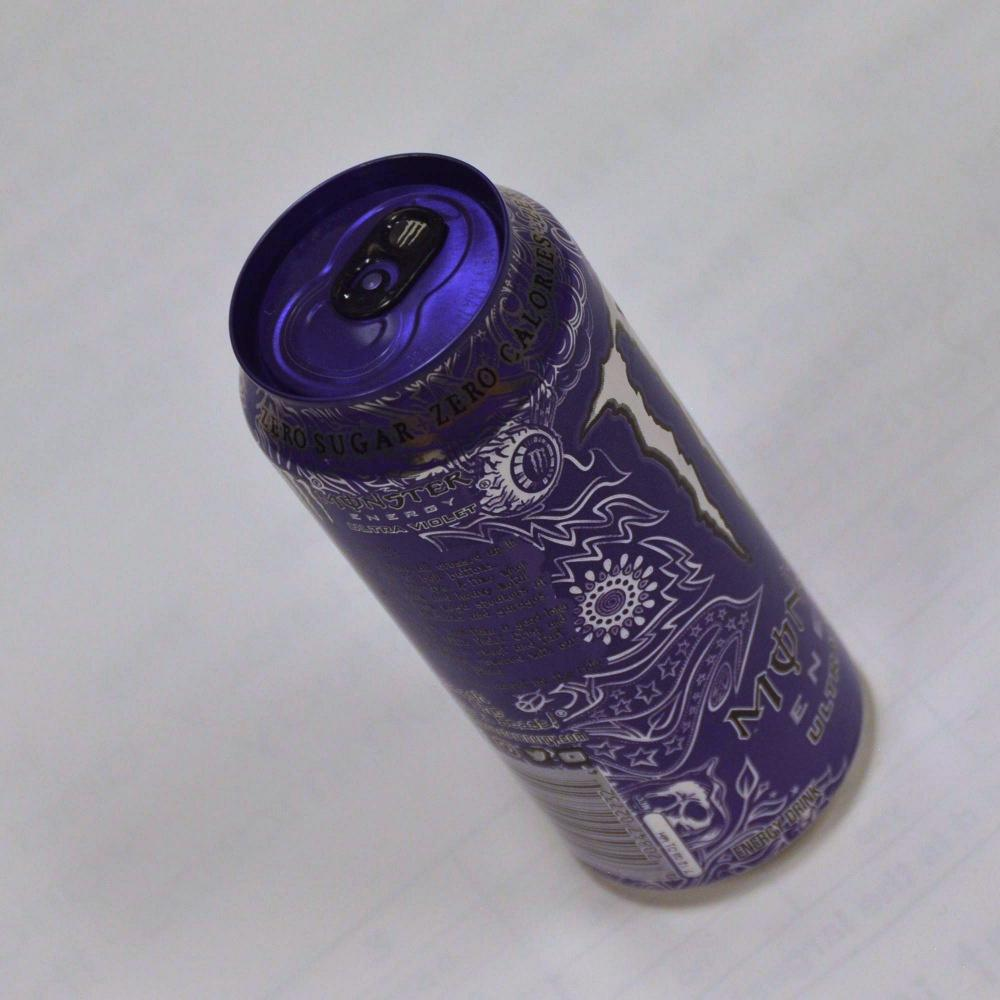Metal: (208, 102, 886, 962)
